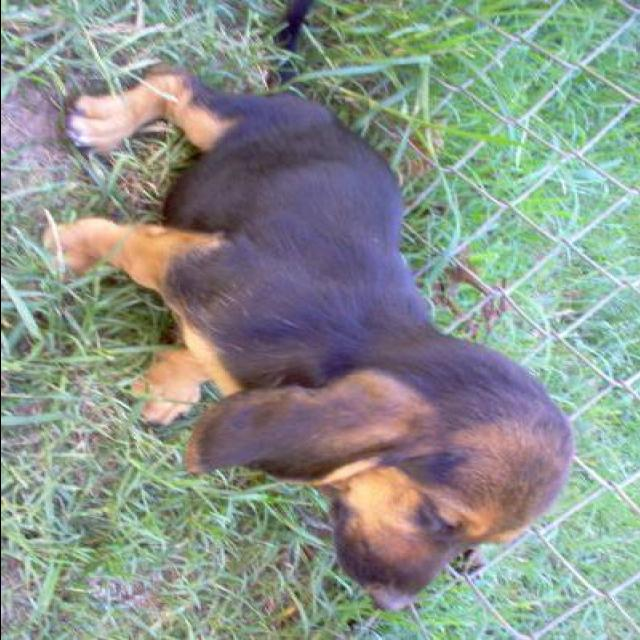dog: (6, 39, 596, 622)
